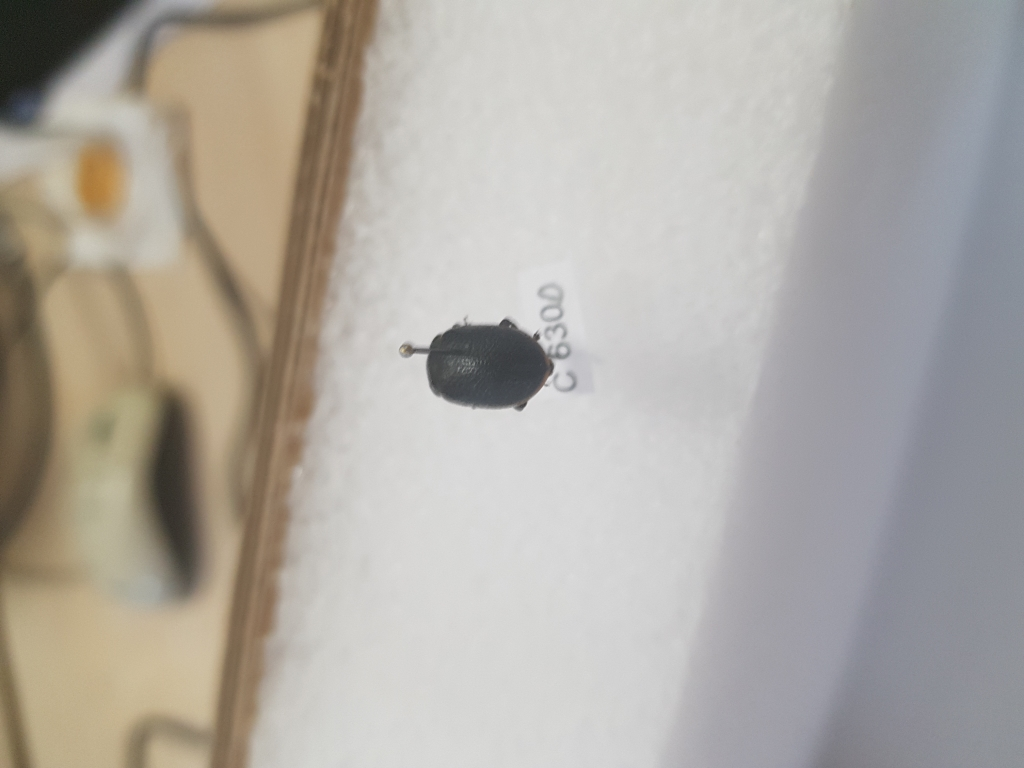Chrysolina_gypsophila: (425, 318, 558, 424)
